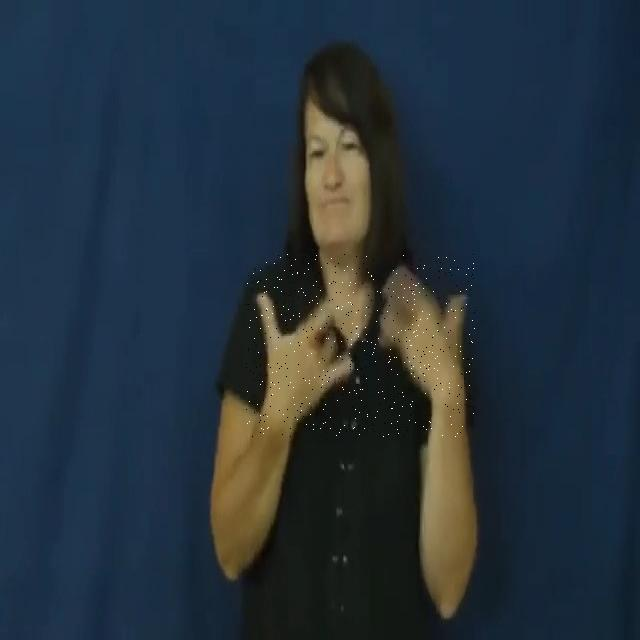hot: (246, 254, 476, 437)
